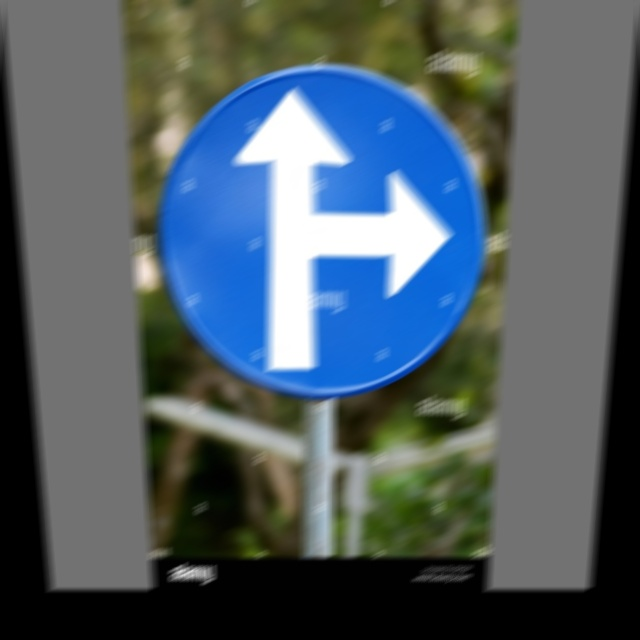Compulsory_Ahead_or_Turn_Right: (153, 61, 483, 394)
